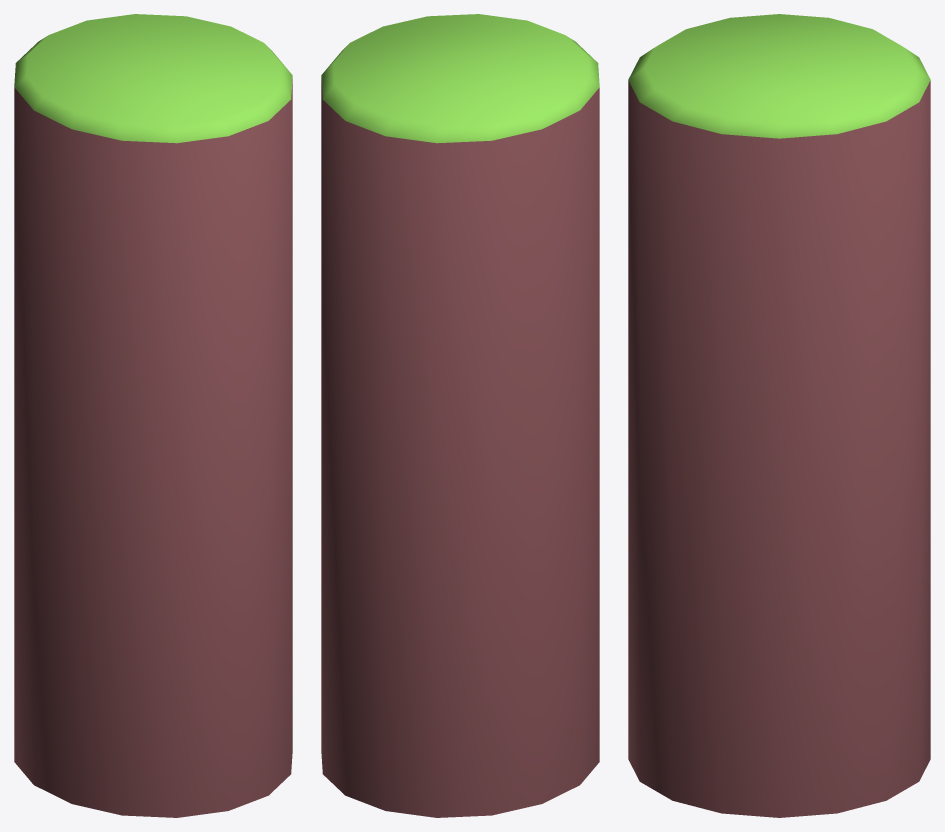
File: ostrovovoshi.fbx
The picture shows the model from 3 angles, left to right: view 1: azimuth 30°, elevation 25°; view 2: azimuth 150°, elevation 25°; view 3: azimuth 270°, elevation 25°; orthographic projection.
Parts seen in each view (by area): view 1: Circle.014; view 2: Circle.014; view 3: Circle.014.
Boxes of the visible parts, x1,y1,x2,y2 form: Circle.014: (14, 14, 292, 817); Circle.014: (321, 14, 599, 817); Circle.014: (628, 14, 930, 817).
Size of the model in its own units: 2851 by 7818 by 3101.
